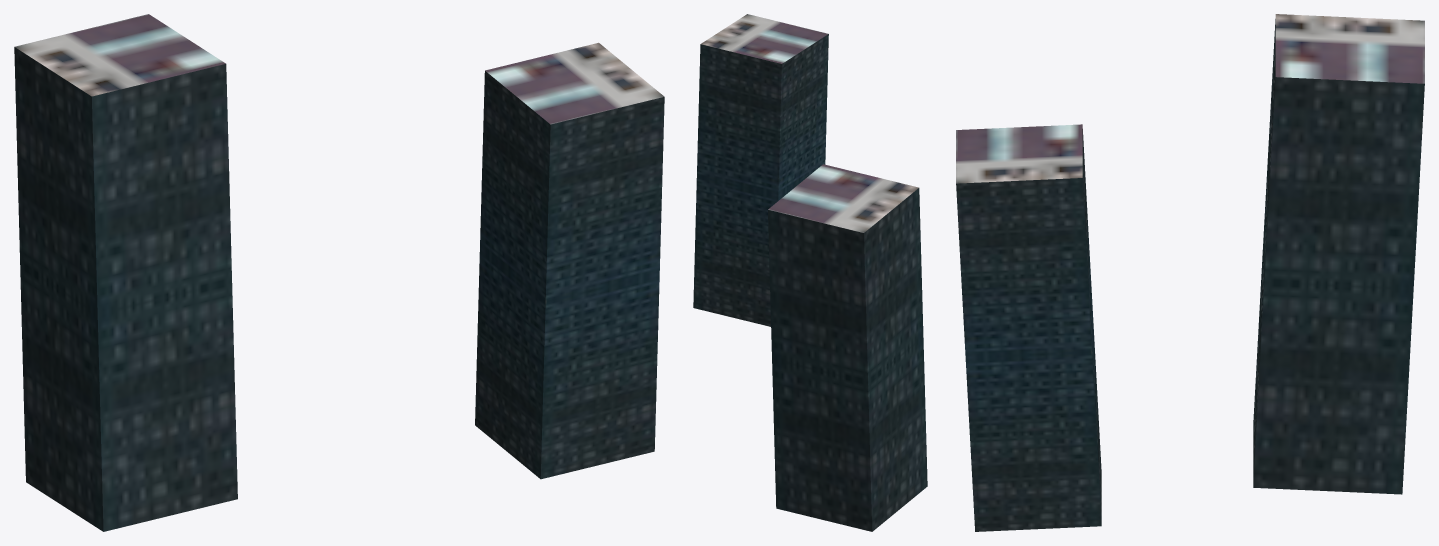
File: Building5.fbx
3 views of the same model, side by side, from view 1: azimuth 30°, elevation 25°; view 2: azimuth 150°, elevation 25°; view 3: azimuth 270°, elevation 25° (orthographic). The views are drawn at different scales.
Parts seen in each view (by area): view 1: assets_E_BuildingsCrossRoad; view 2: assets_E_BuildingsCrossRoad; view 3: assets_E_BuildingsCrossRoad.
Boxes of the visible parts, <box> form: assets_E_BuildingsCrossRoad: <box>14,14,664,531</box>; assets_E_BuildingsCrossRoad: <box>693,14,927,531</box>; assets_E_BuildingsCrossRoad: <box>956,14,1424,531</box>.
Bounding box in the file's own units: 18053 × 19592 × 18732.
1 material, 1 textured.
